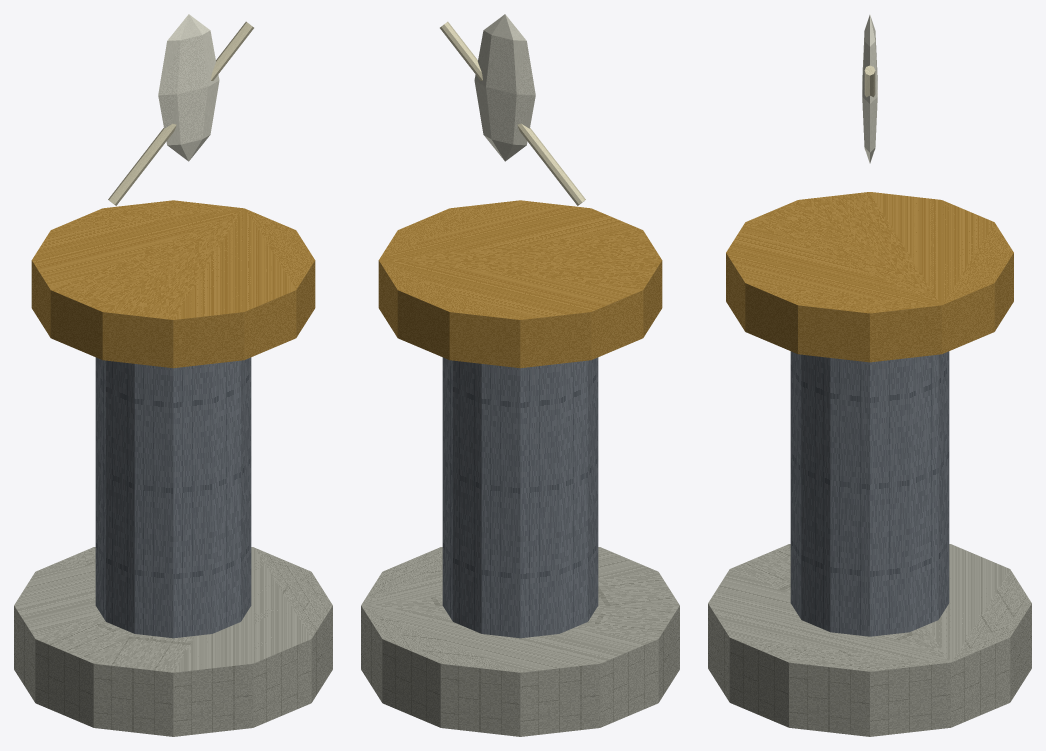
File: feather_pedestal.glb
The picture shows the model from 3 angles, left to right: view 1: azimuth 30°, elevation 25°; view 2: azimuth 150°, elevation 25°; view 3: azimuth 270°, elevation 25°; orthographic projection.
Visible parts, largest first — view 1: stem, top, base, feather, feather_quill; view 2: stem, top, base, feather, feather_quill; view 3: stem, top, base, feather.
Boxes of the visible parts, left/top/right/bottom form: stem: left=95, top=357, right=251, bottom=638; top: left=31, top=200, right=315, bottom=368; base: left=14, top=547, right=332, bottom=736; feather: left=158, top=14, right=219, bottom=161; feather_quill: left=108, top=21, right=253, bottom=205; stem: left=442, top=357, right=598, bottom=638; top: left=378, top=200, right=662, bottom=368; base: left=361, top=547, right=679, bottom=736; feather: left=474, top=14, right=535, bottom=161; feather_quill: left=440, top=21, right=585, bottom=205; stem: left=790, top=351, right=949, bottom=636; top: left=726, top=192, right=1013, bottom=362; base: left=708, top=544, right=1031, bottom=736; feather: left=862, top=15, right=877, bottom=163.
Size of the model in its own units: 0.9 by 2.03 by 0.9.
1 material, 1 textured.
